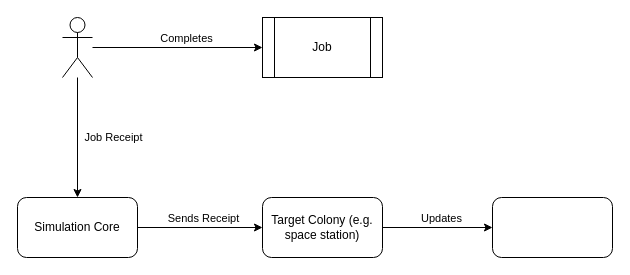
Image size: 630x275. Some labels were removed from this diagram. Here are the shapes that lost their labels. From the top down, the box of each, then its label:
(62, 16, 92, 78): John Civilian
(492, 196, 612, 258): Map / Stocks / Resource / etc
